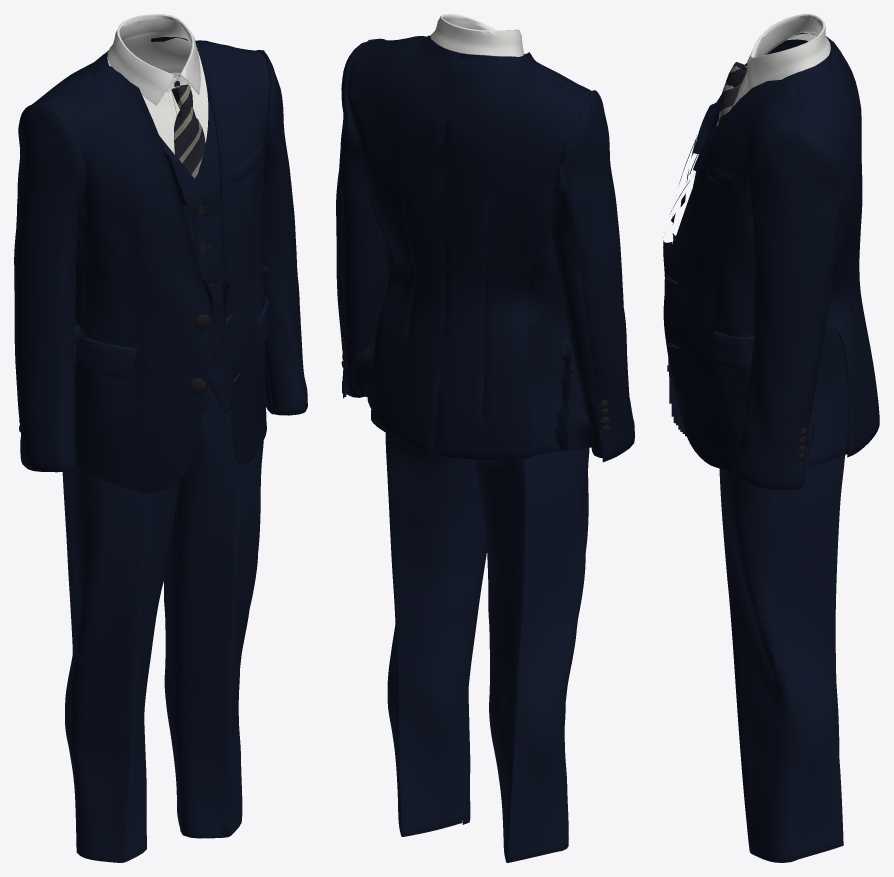
Rendered from MW_Tailleur_suit_v4_BASE_stepE_sides.glb.
The picture shows the model from 3 angles, left to right: view 1: azimuth 30°, elevation 25°; view 2: azimuth 150°, elevation 25°; view 3: azimuth 270°, elevation 25°; orthographic projection. The views are drawn at different scales.
Visible parts, largest first — view 1: Jacket, Trousers, Shirt, Waistcoat, Tie, Trim; view 2: Jacket, Trousers, Shirt, Waistcoat; view 3: Jacket, Trousers, Shirt, Tie, Waistcoat.
Boxes of the visible parts, x1,y1,x2,y2 form: Jacket: (14,37,307,492); Trousers: (62,383,263,862); Shirt: (107,14,208,154); Waistcoat: (75,42,231,413); Tie: (172,84,205,179); Trim: (19,81,210,432); Jacket: (336,35,634,462); Trousers: (385,433,589,862); Shirt: (430,14,524,56); Waistcoat: (417,36,529,68); Jacket: (663,32,879,489); Trousers: (719,455,845,862); Shirt: (716,14,830,125); Tie: (718,62,746,125); Waistcoat: (712,46,835,128).
Size of the model in its own units: 0.5389 by 1.5 by 0.3678.
7 materials, 3 textured.
